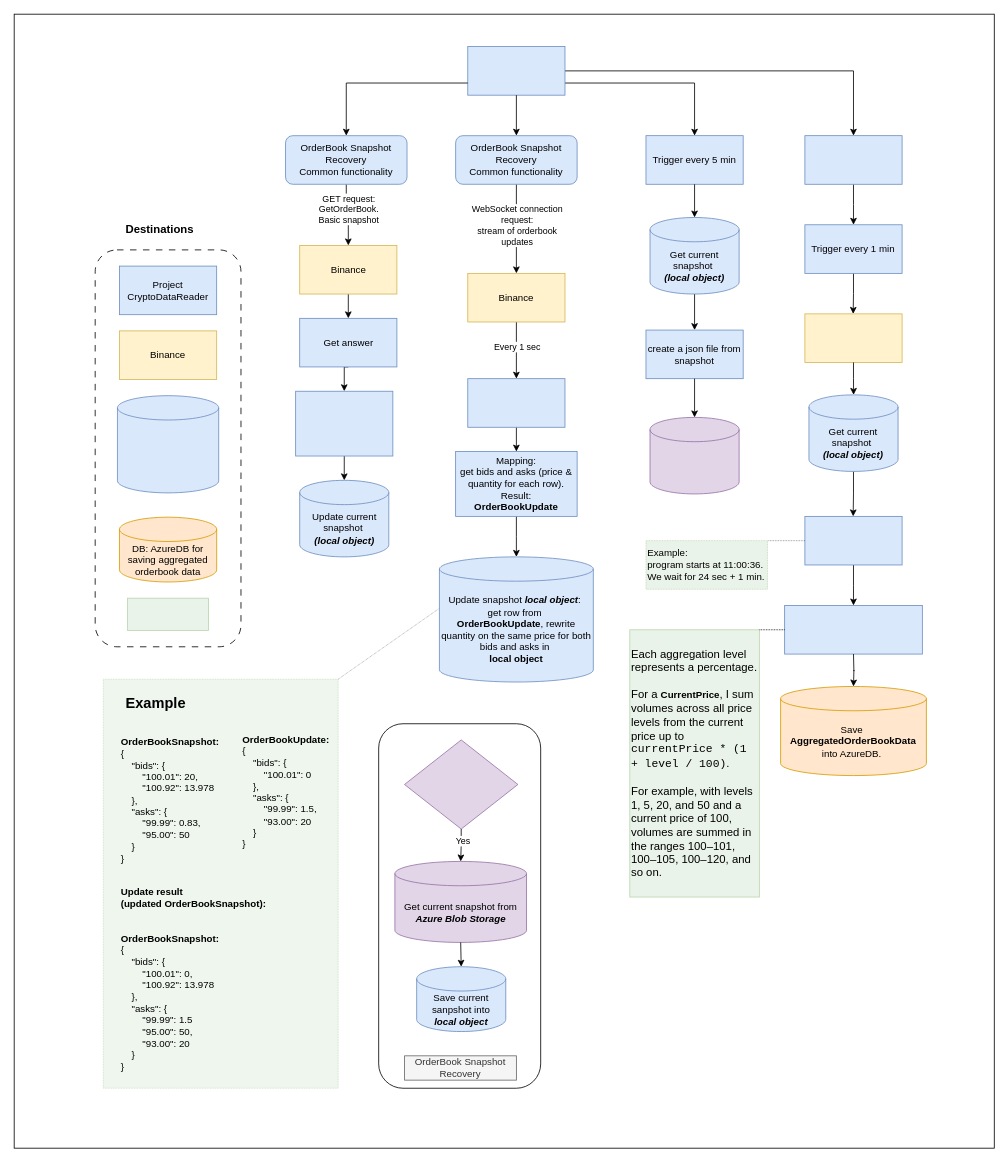
The diagram is 1008 pixels wide and 1162 high, and some of its shapes have lost their labels. Here are the shapes that lost their labels. From the top down, the centre of each, then its label:
(x=516, y=70): Start
(x=853, y=159): Wait for: start of next minute + 1 minute
(x=853, y=337): Binance: Get current price for currency pair. CurrentPrice
(x=516, y=402): Catch update
(x=344, y=423): Mapping: get bids and asks (price & quantity for each row)
(x=168, y=444): Message queue: storage for current (actual) snapshot of order book data
(x=694, y=455): Save file into Azure Blob Storage
(x=853, y=540): Get aggregation levels (environment)
(x=168, y=614): Comments
(x=853, y=629): Aggregation: AggregatedOrderBookData
(x=461, y=784): Do we have basic snapshot in Azure Blob?
